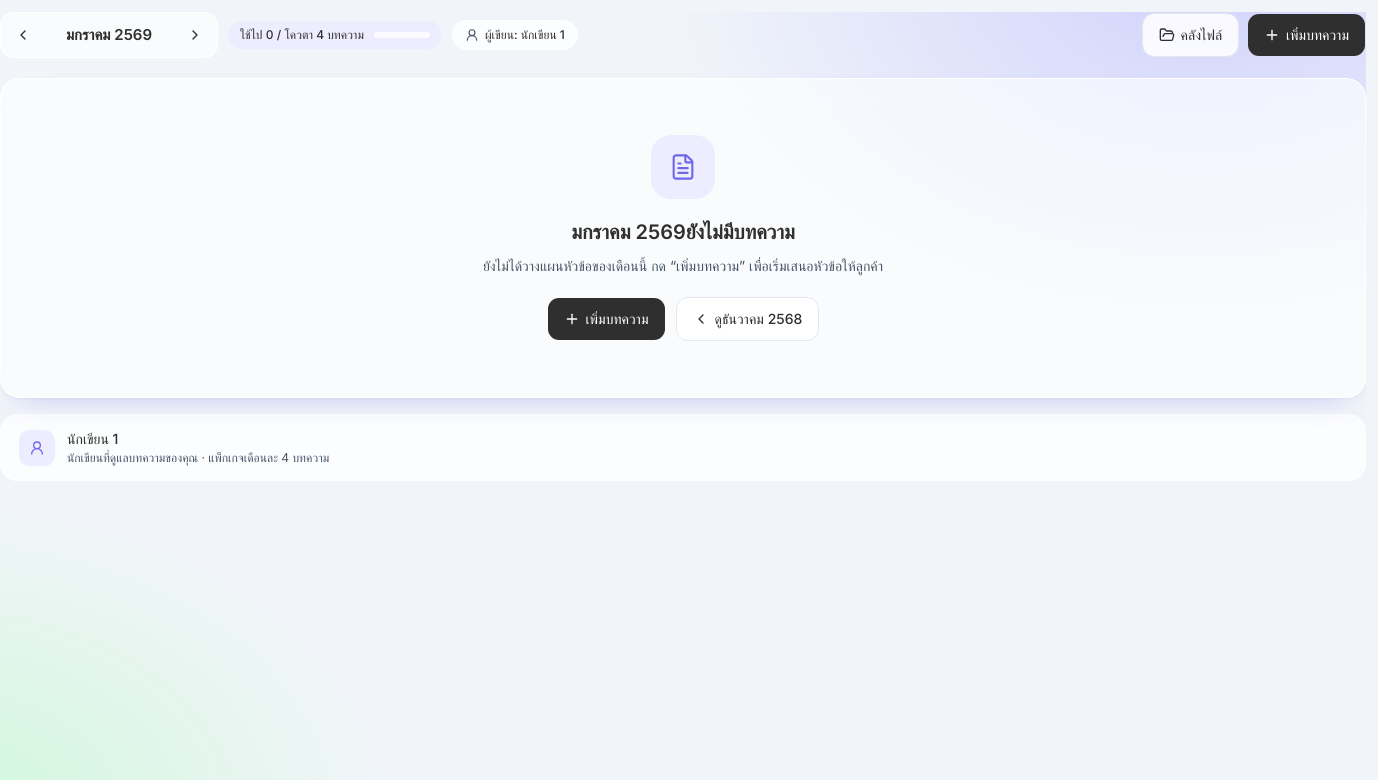
Scenario: BlogPlanBoard › เลื่อนเดือนถอยหลังข้ามปีได้
Click the button named "เดือนก่อนหน้า".
click(23, 35)  # box [5,17,41,53]
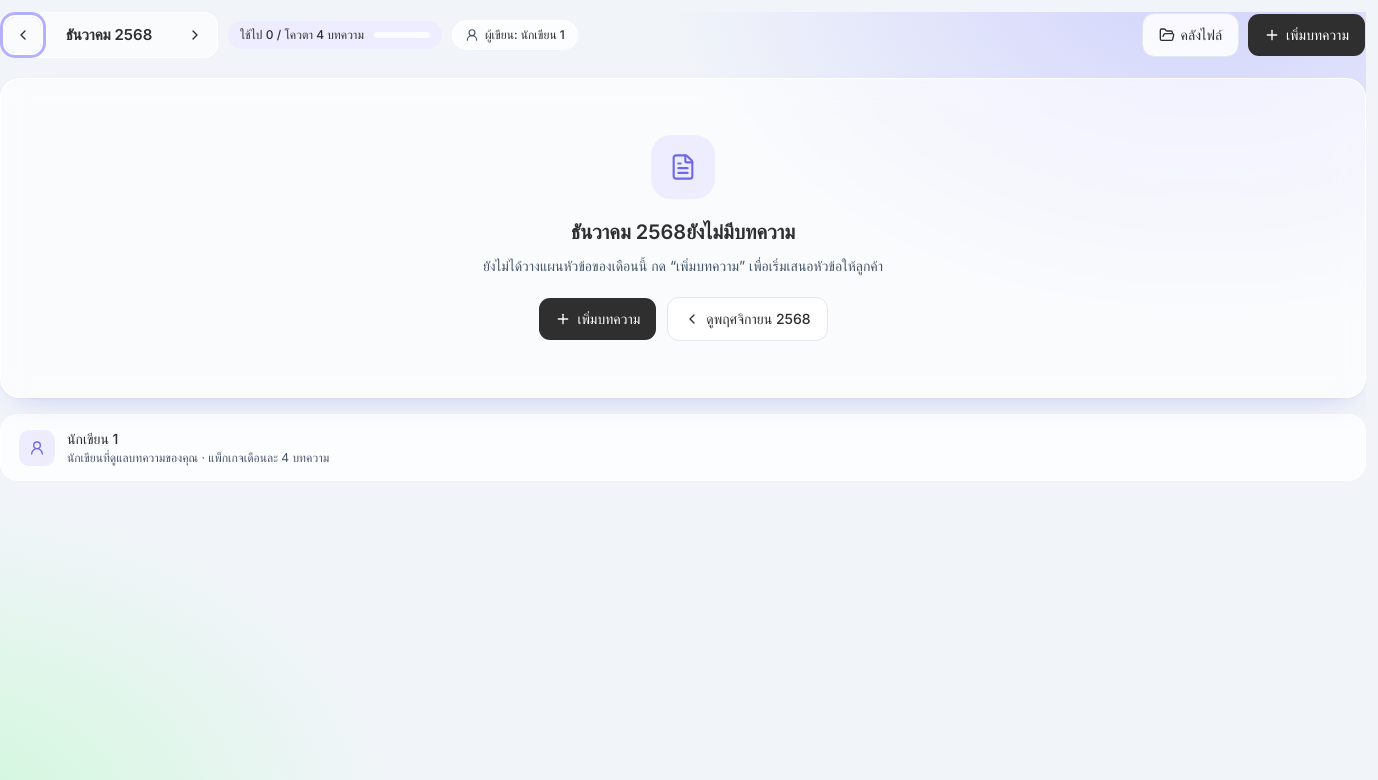
Check: the text "ธันวาคม 2568" is shown, box [66,25,152,44]
